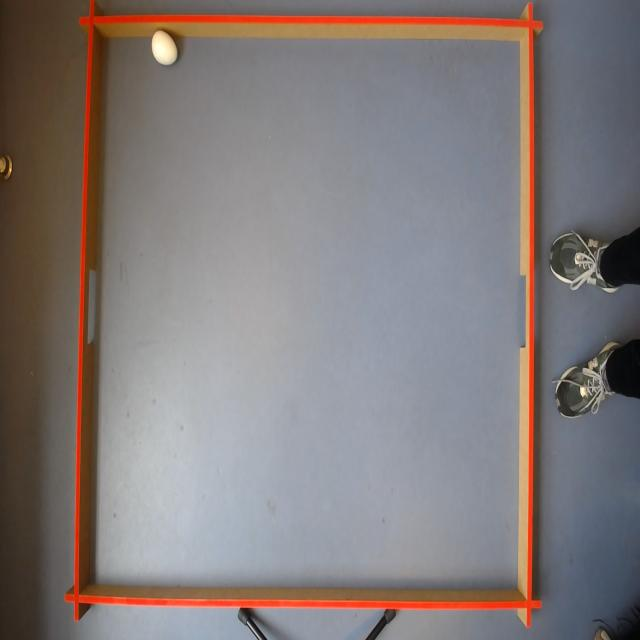egg: (150, 29, 178, 68)
